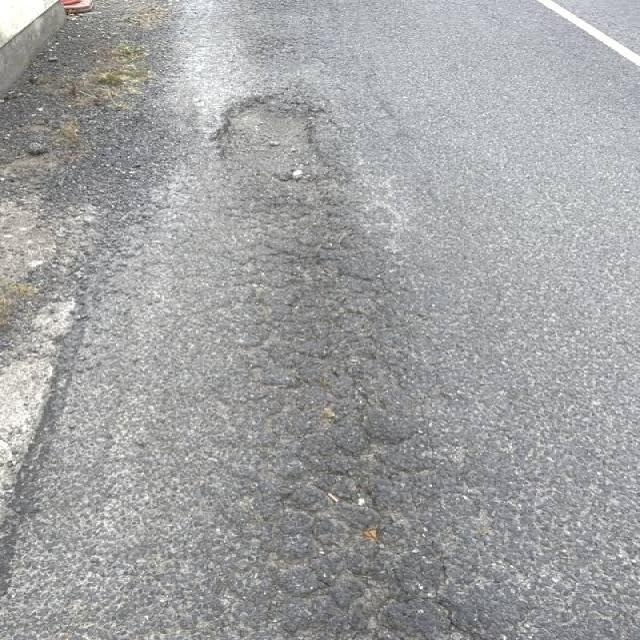pothole: (142, 68, 398, 224)
